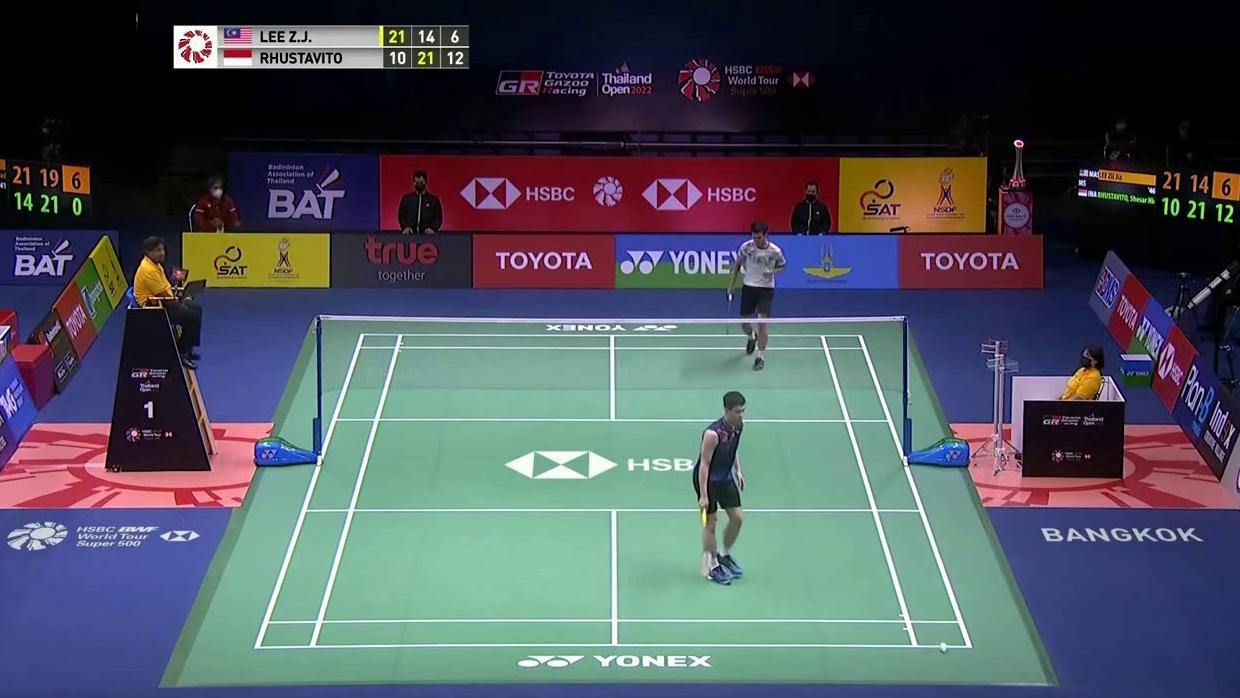racket: (695, 506, 719, 579), (722, 290, 739, 343)
shuttle: (936, 637, 949, 655)
